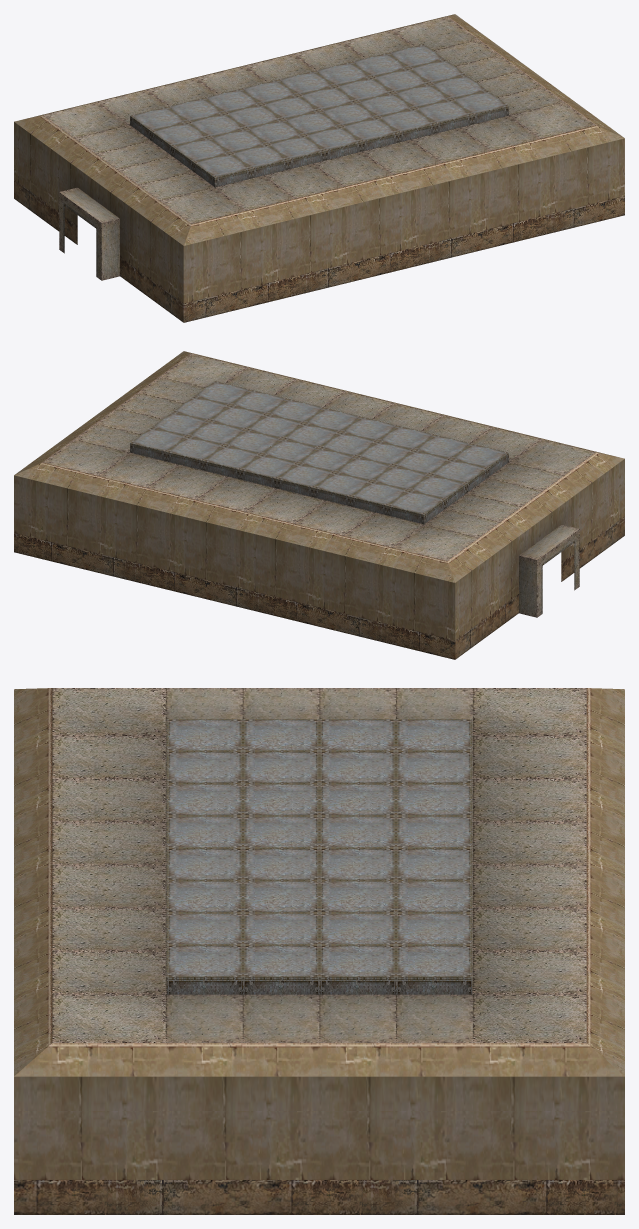
File: M11Z2_ShelterExt.glb
3 views of the same model, one above another, from view 1: azimuth 30°, elevation 25°; view 2: azimuth 150°, elevation 25°; view 3: azimuth 270°, elevation 25° (orthographic). The views are drawn at different scales.
Visible parts, largest first — view 1: M11Z2_SHELTEREXT; view 2: M11Z2_SHELTEREXT; view 3: M11Z2_SHELTEREXT.
Boxes of the visible parts, x1,y1,x2,y2 form: M11Z2_SHELTEREXT: (14, 14, 624, 322); M11Z2_SHELTEREXT: (14, 351, 624, 659); M11Z2_SHELTEREXT: (14, 688, 624, 1214).
Bounding box in the file's own units: 25 × 5 × 16.
Materials: 4 (4 with a texture image).
